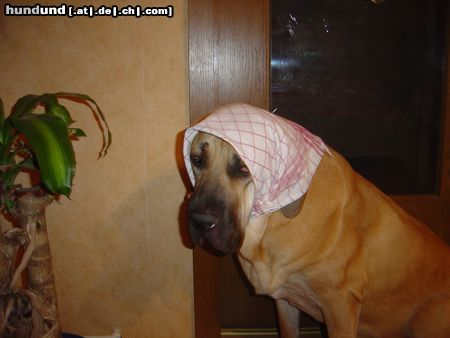fila_brasileiro: (187, 103, 450, 338)
